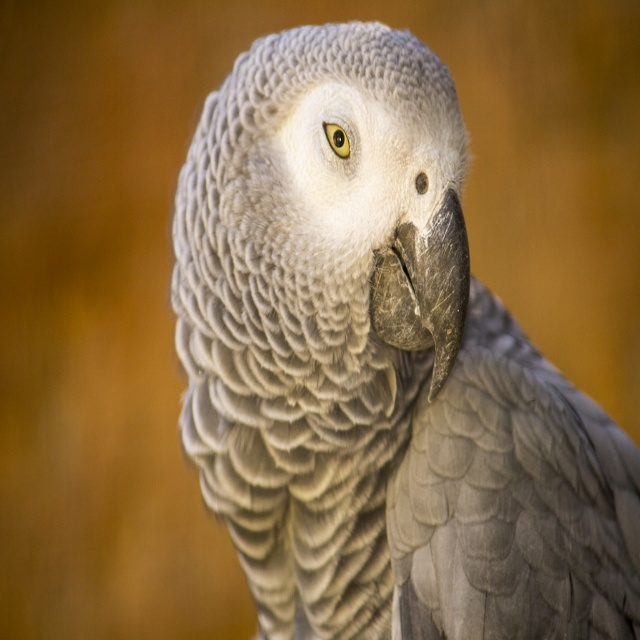Parrot: (170, 21, 640, 640)
